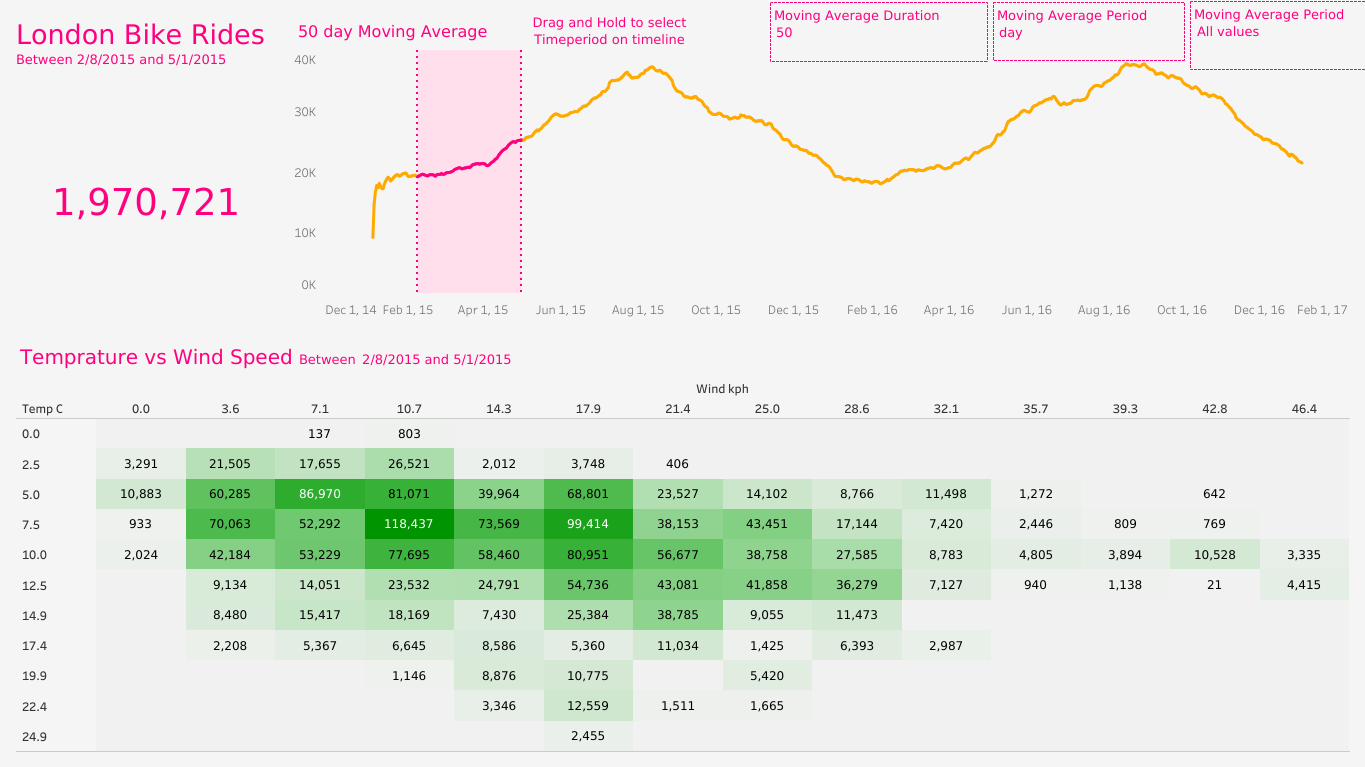

The dashboard page shown, as its layout file describes it:
{"tool":"tableau","page":{"name":"LondonBikeRidersDashboard","canvas":[1366,768],"ordinal":0},"visuals":[{"type":"filter","title":"Moving Average","param":"[federated.065s8ph16sawqz17l9m860vjxgaj].[none:Calculation_662592102319861762:qk","box":[1190,1,177,69]},{"type":"text","box":[496,2,227,57]},{"type":"parameter","param":"[Parameters].[Parameter 2]","box":[770,2,218,60]},{"type":"parameter","param":"[Parameters].[Parameter 1]","box":[993,2,192,59]},{"type":"worksheet","title":"Total Rides","mark":"Automatic","box":[8,8,278,322.9]},{"type":"worksheet","title":"Moving Average","mark":"Automatic","cols":["Calculation_662592102319861762"],"box":[286,8,1072,322.9]},{"type":"worksheet","title":"Heat Map","mark":"Square","rows":["temp real C (bin)"],"cols":["Wind Speed Kph (bin)"],"box":[8,330.9,1350,429.1]}]}

Visuals, with their boxes in screenshot pixels (x1, y1, x2, y2), scaled from the page's 1366x768 canvas onto the 1365x767 screenshot:
"Moving Average" filter: [left=1189, top=1, right=1364, bottom=70]
text: [left=496, top=2, right=722, bottom=59]
parameter: [left=769, top=2, right=987, bottom=62]
parameter: [left=992, top=2, right=1184, bottom=61]
"Total Rides" worksheet: [left=8, top=8, right=286, bottom=330]
"Moving Average" worksheet: [left=286, top=8, right=1357, bottom=330]
"Heat Map" worksheet (Square marks): [left=8, top=330, right=1357, bottom=759]
